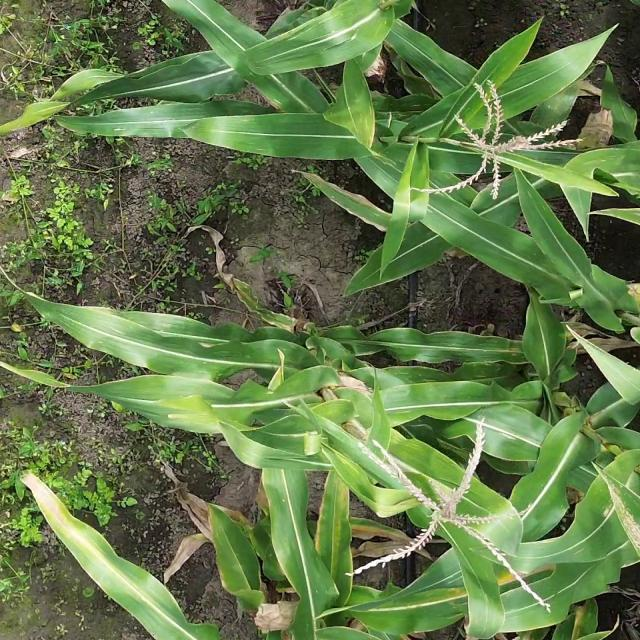gray-leaf-spot: (86, 94, 253, 160), (120, 318, 270, 373), (416, 561, 537, 611)
northern-leaf-blight: (39, 493, 206, 640), (296, 461, 355, 576)
